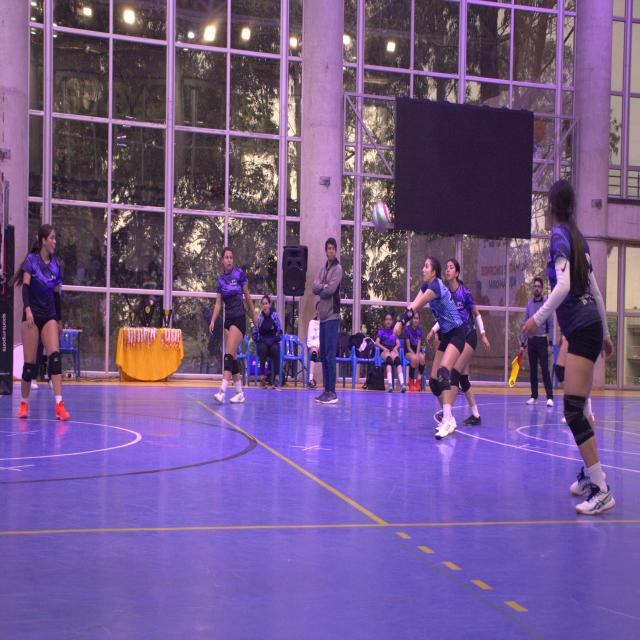volleyball: (371, 202, 391, 232)
